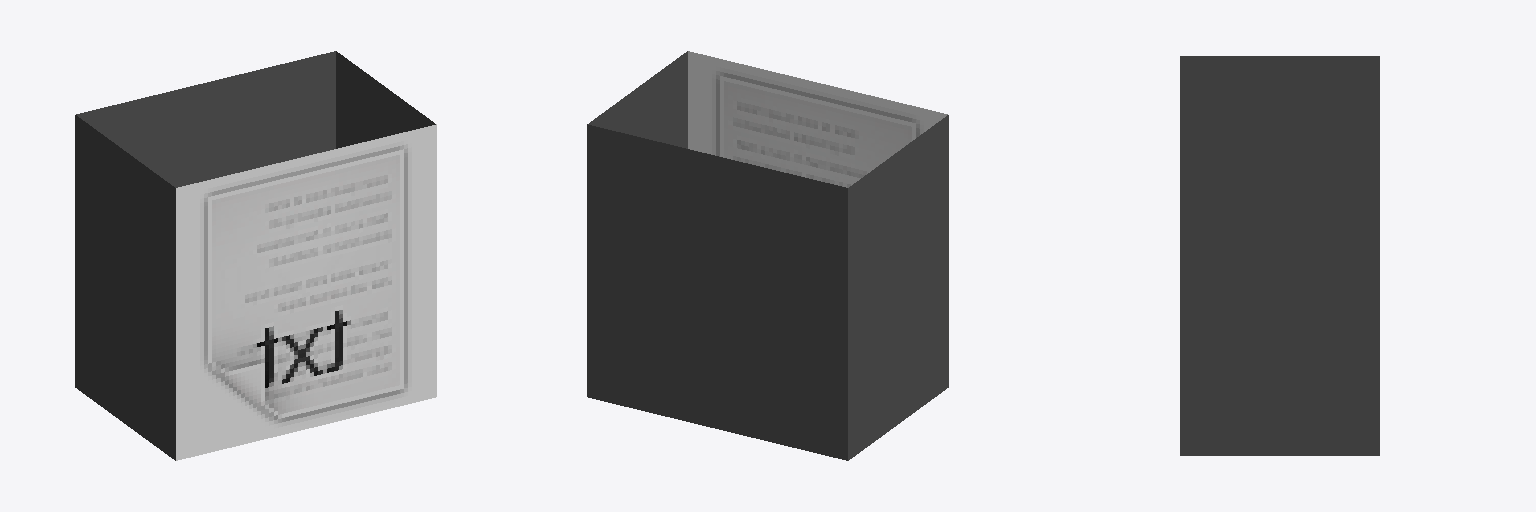
3 renders of one model, left to right at view 1: azimuth 30°, elevation 25°; view 2: azimuth 150°, elevation 25°; view 3: azimuth 270°, elevation 25°, orthographic.
Visible parts, largest first — view 1: base; view 2: base; view 3: base.
Part boxes in pixels (bbox=[...]): base: bbox=[75, 51, 436, 460]; base: bbox=[587, 51, 948, 460]; base: bbox=[1180, 56, 1379, 455].
Size of the model in its own units: 6 by 6 by 4.
2 materials, 1 textured.